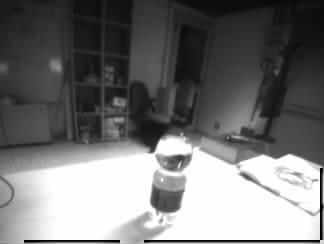Bottle: (148, 116, 191, 228)
